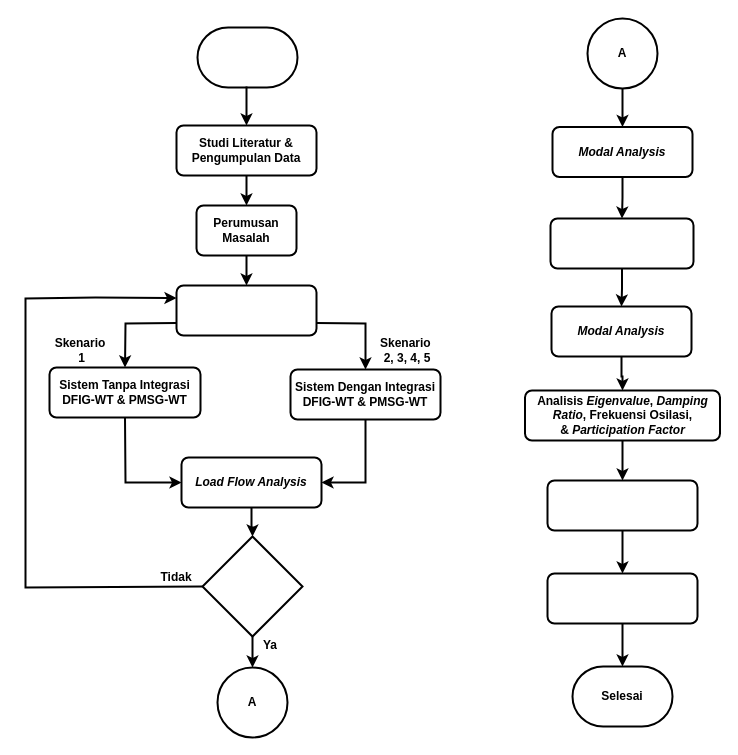
Image size: 738x755. Some labels were removed from this diagram. Each missing label, with the centre of its shape:
Apakah Konvergen ?: pixel 252 586
Kesimpulan: pixel 622 598
Mulai: pixel 247 57
Pemodelan Tes Sistem IEEE Nine-Bus: pixel 246 310
Perbandingan Hasil Stabilitas Antar Skenario: pixel 622 505
Simulasi Peningkatan Beban: pixel 621 243
